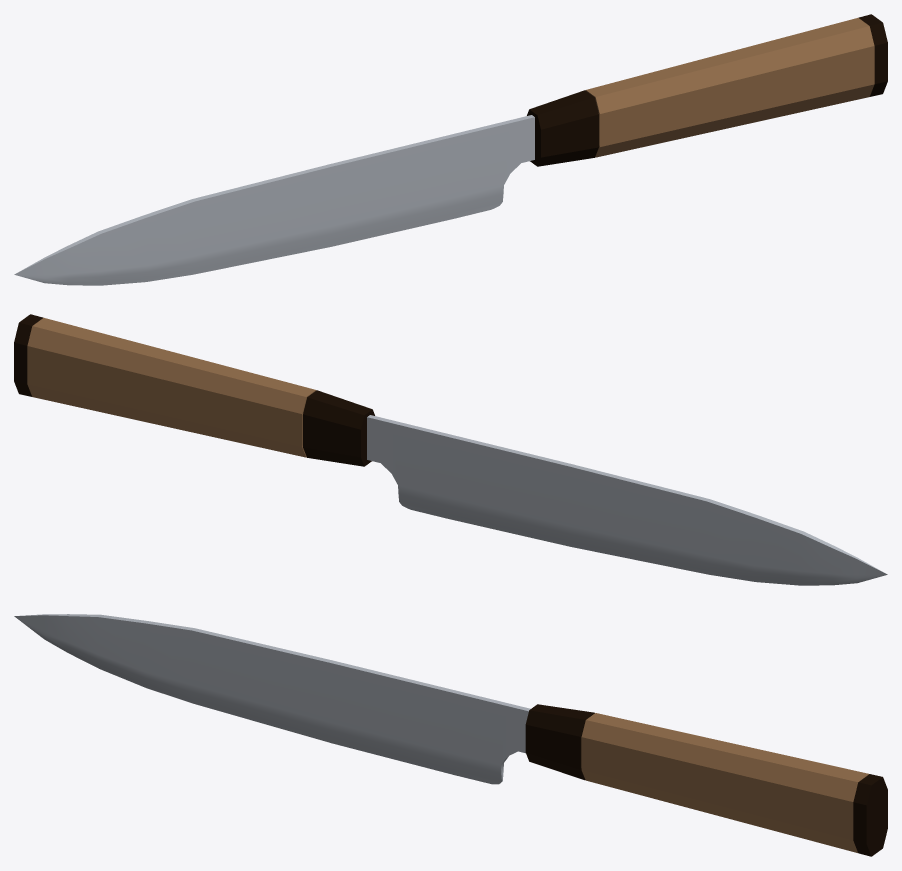
The model's file is SM_Knife_02.fbx.
3 renders of one model, top to bottom at view 1: azimuth 30°, elevation 25°; view 2: azimuth 150°, elevation 25°; view 3: azimuth 330°, elevation 25°, orthographic.
Parts seen in each view (by area): view 1: SM_Knife_02; view 2: SM_Knife_02; view 3: SM_Knife_02.
Boxes of the visible parts, x1,y1,x2,y2 form: SM_Knife_02: (14, 14, 887, 285); SM_Knife_02: (14, 314, 887, 585); SM_Knife_02: (14, 614, 887, 856).
Bounding box in the file's own units: 36.26 × 3.9 × 1.55.
